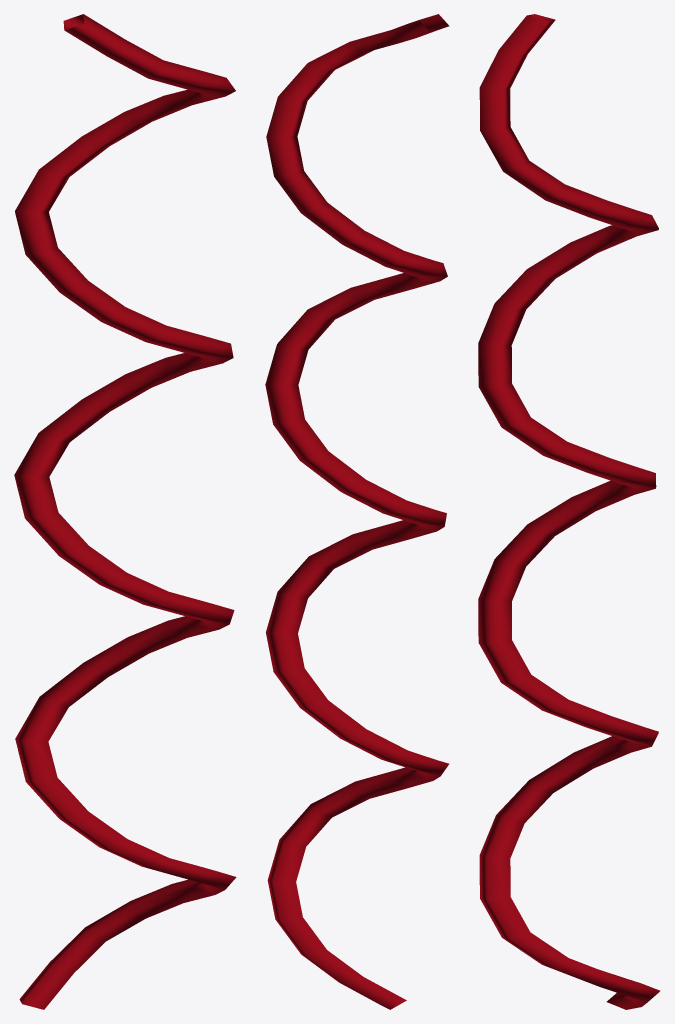
The model's file is JulslingaRed.fbx.
3 renders of one model, left to right at view 1: azimuth 30°, elevation 25°; view 2: azimuth 150°, elevation 25°; view 3: azimuth 270°, elevation 25°, orthographic. The views are drawn at different scales.
Parts seen in each view (by area): view 1: SpiroFit.011; view 2: SpiroFit.011; view 3: SpiroFit.011.
Part boxes in pixels (x1,y1,x2,y2): SpiroFit.011: [14, 14, 236, 1009]; SpiroFit.011: [265, 14, 449, 1009]; SpiroFit.011: [478, 14, 660, 1009].
Bounding box in the file's own units: 79.72 × 423 × 70.7.
